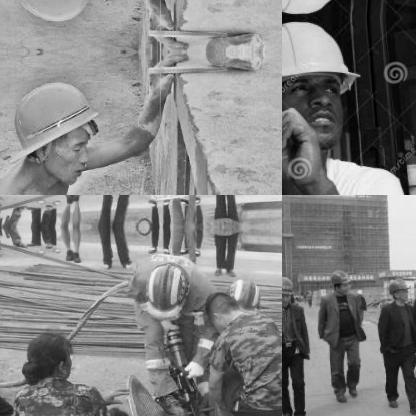Helmet: (0, 65, 105, 194), (282, 17, 358, 151), (0, 0, 106, 37), (142, 260, 192, 312), (221, 275, 261, 311), (282, 0, 359, 16), (387, 277, 410, 303), (330, 267, 348, 295), (282, 274, 295, 306)
